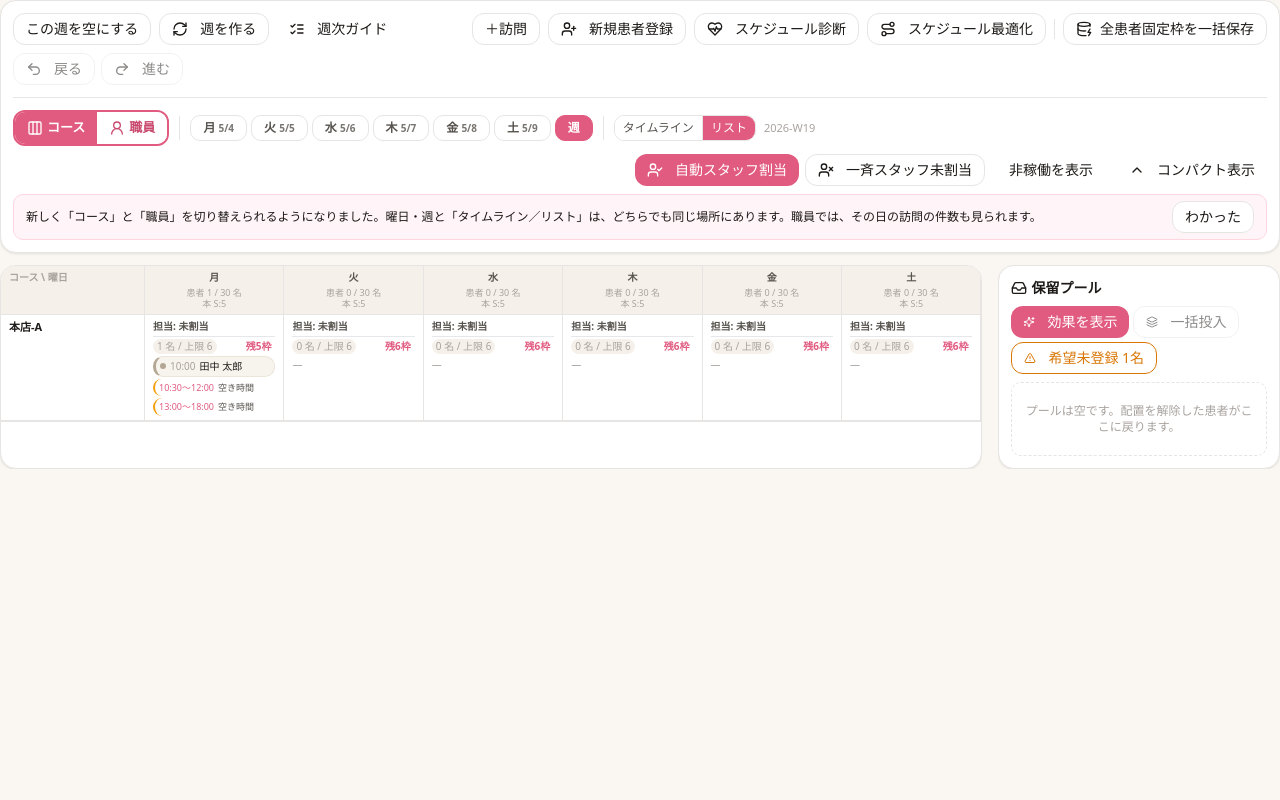
Scenario: CourseDayTablePanel — NG スタッフ / 性別制限の確認フロー (§7-2) › NC-2. 「移動する」で acknowledge_constraint_warnings:true を足して再送する
What coordinates should you click on to do the following:
click the tab with test id "course-day-tab-0"
I would click on:
 (219, 128)
Its box is [190, 115, 247, 141].
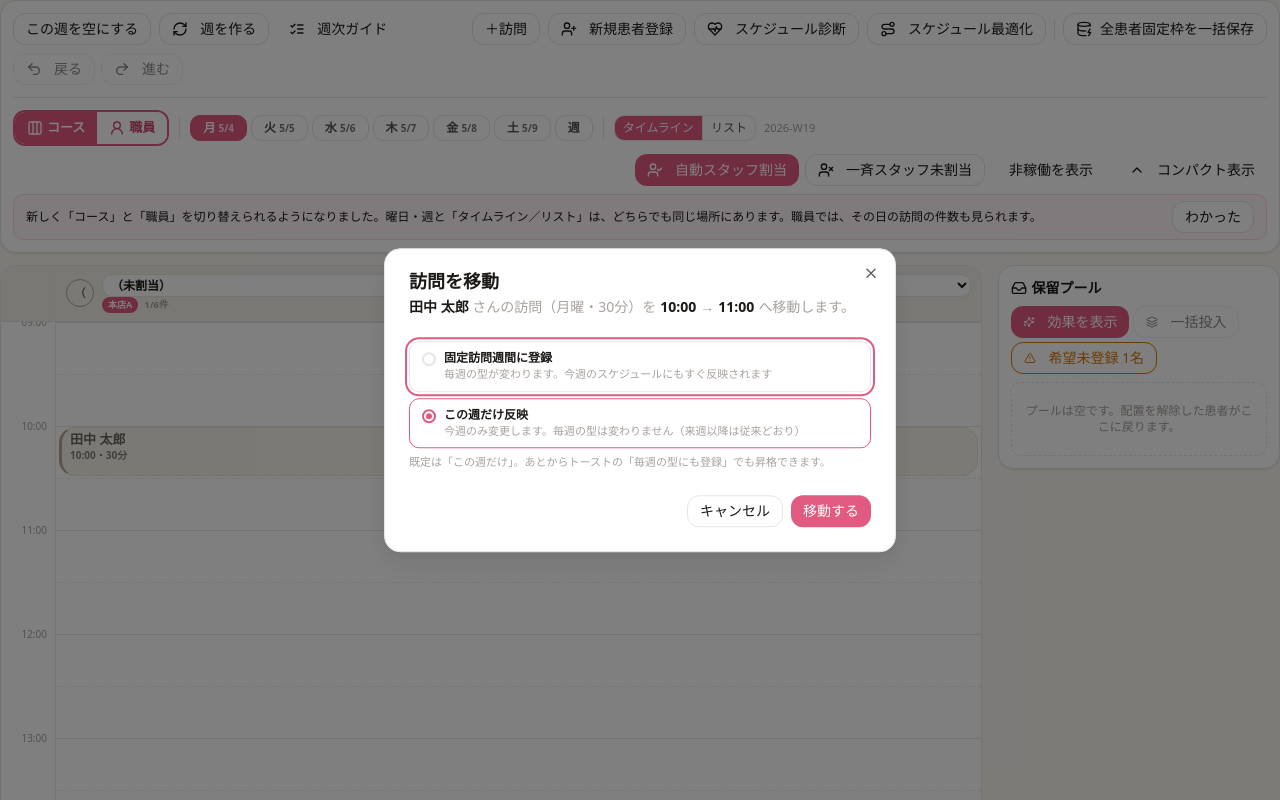
Expected: the dialog with test id "timeline-move-dialog" is shown, [384, 248, 896, 552]
What coordinates should you click on to do the following:
click the button with test id "timeline-move-confirm"
I would click on:
 (831, 511)
Its box is [791, 495, 871, 527].
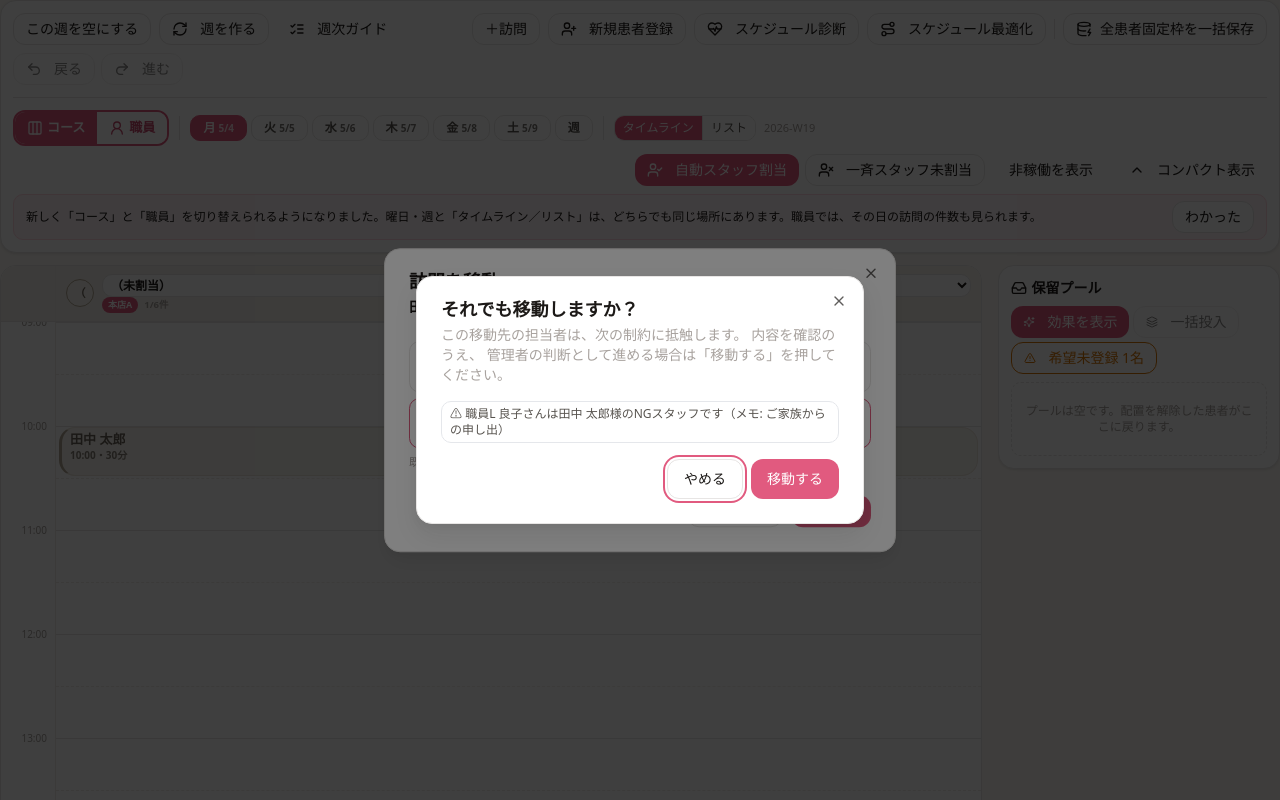
Expected: the dialog with test id "constraint-override-confirm" is shown, [416, 276, 864, 524]
What coordinates should you click on to do the following:
click the button with test id "constraint-override-ok"
I would click on:
 (795, 479)
Its box is [751, 459, 839, 499].
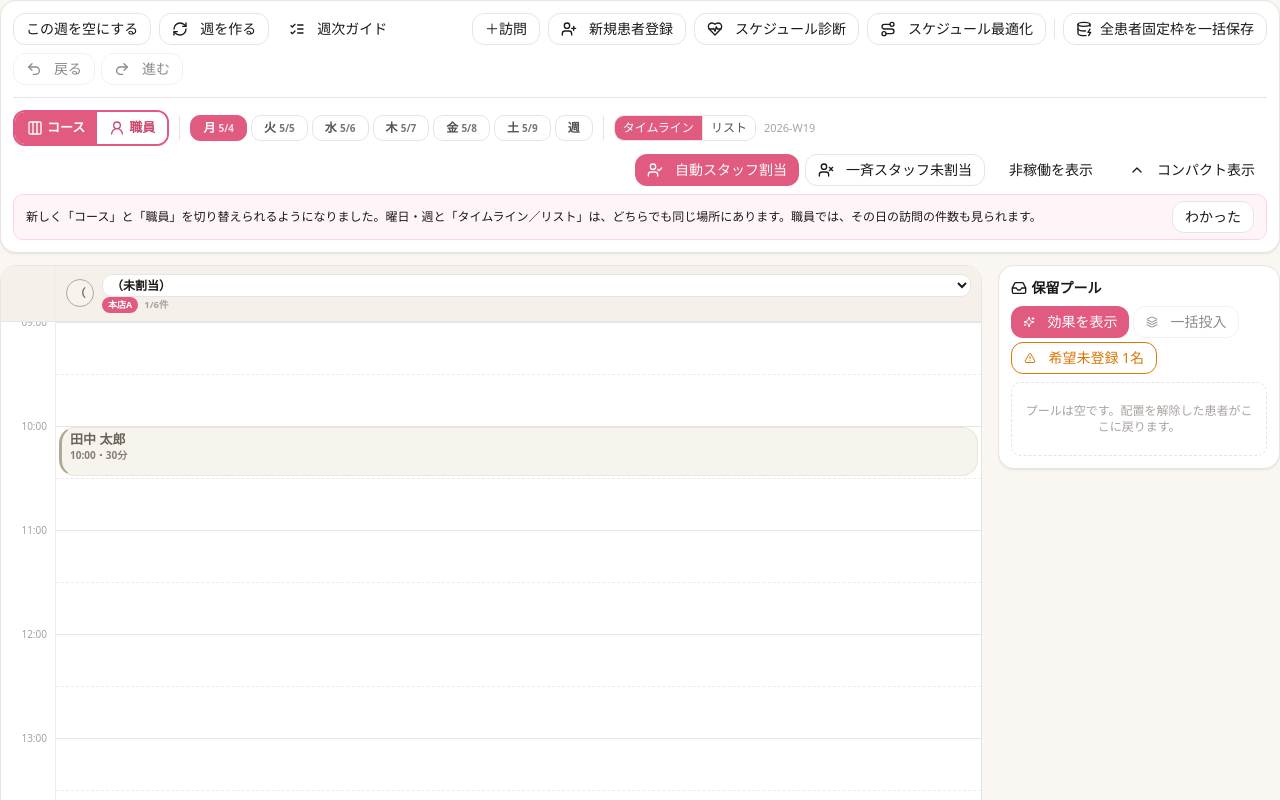
Expected: the dialog with test id "constraint-override-confirm" is gone
